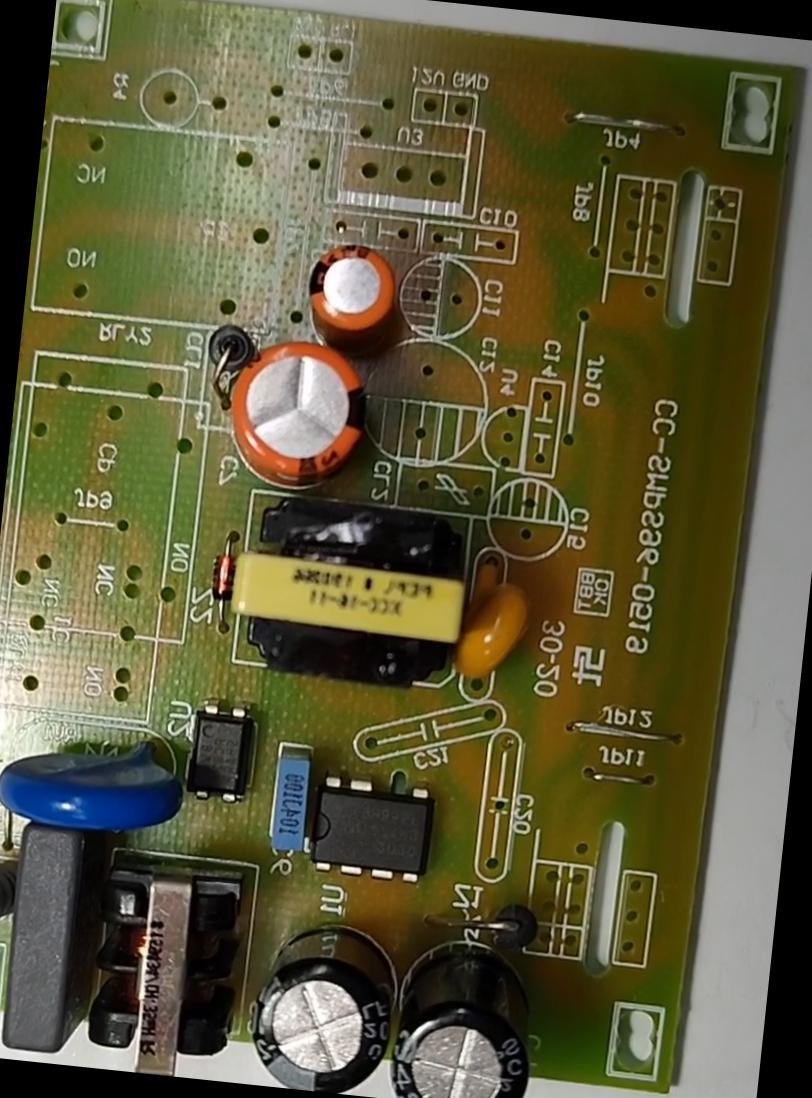Cap1: (194, 330, 400, 506)
Cap2: (284, 223, 414, 360)
Cap3: (239, 898, 417, 1097)
Cap4: (370, 910, 557, 1097)
MOSFET: (286, 764, 451, 890)
Mov: (0, 717, 192, 862)
Resistor: (0, 845, 28, 948)
Transformer: (215, 484, 487, 689), (78, 845, 256, 1082)
